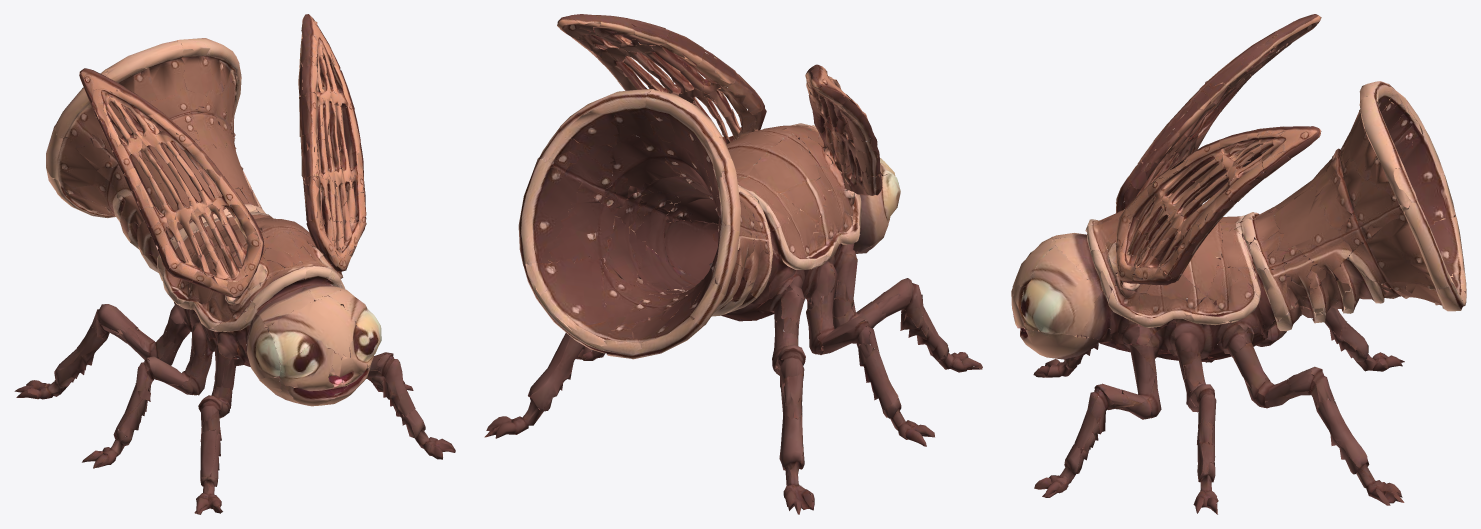
3 views of the same model, side by side, from view 1: azimuth 30°, elevation 25°; view 2: azimuth 150°, elevation 25°; view 3: azimuth 270°, elevation 25° (orthographic). The views are drawn at different scales.
Parts seen in each view (by area): view 1: Mesh_0; view 2: Mesh_0; view 3: Mesh_0.
Part boxes in pixels (x1,y1,x2,y2): Mesh_0: [14, 14, 455, 514]; Mesh_0: [484, 14, 982, 514]; Mesh_0: [1011, 14, 1466, 514].
Bounding box in the file's own units: 1.62 × 1.67 × 1.9.
1 material, 1 textured.
